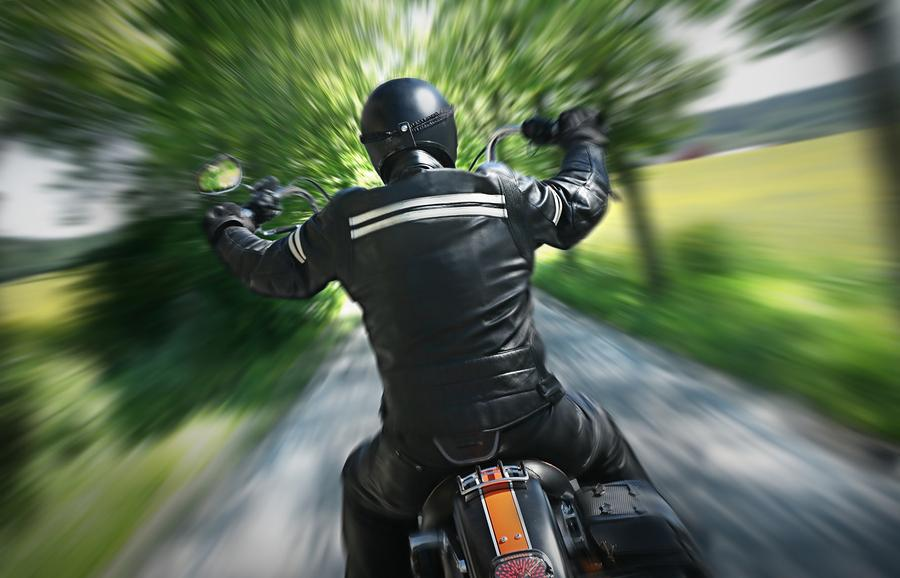helmet: (328, 68, 477, 179)
